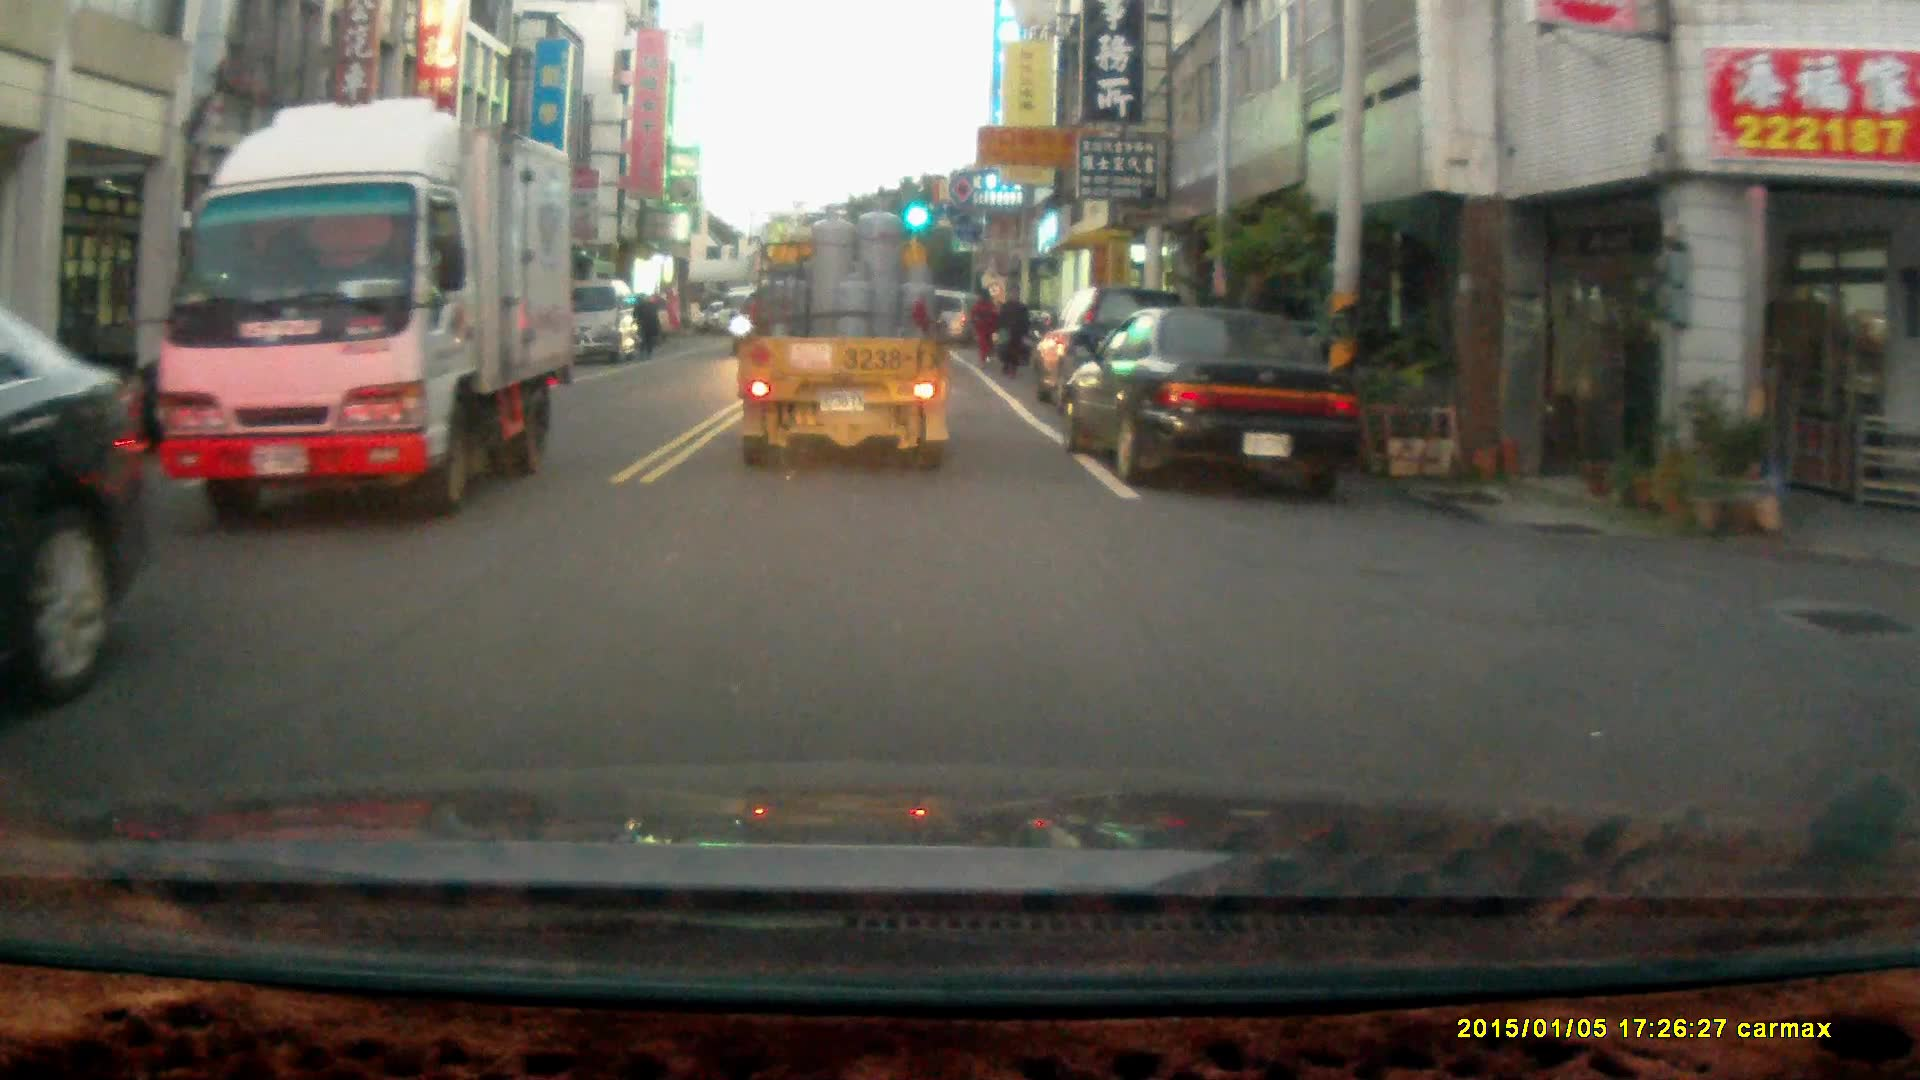pedestrian: (992, 283, 1027, 379), (966, 285, 1000, 366), (629, 291, 659, 361)
vehicle: (157, 99, 577, 526), (732, 191, 959, 476), (1, 309, 153, 695), (1064, 307, 1363, 494), (581, 277, 645, 365)
